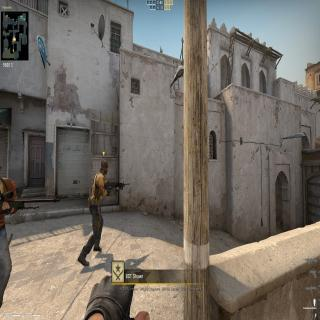T-Head: (100, 158, 109, 176)
